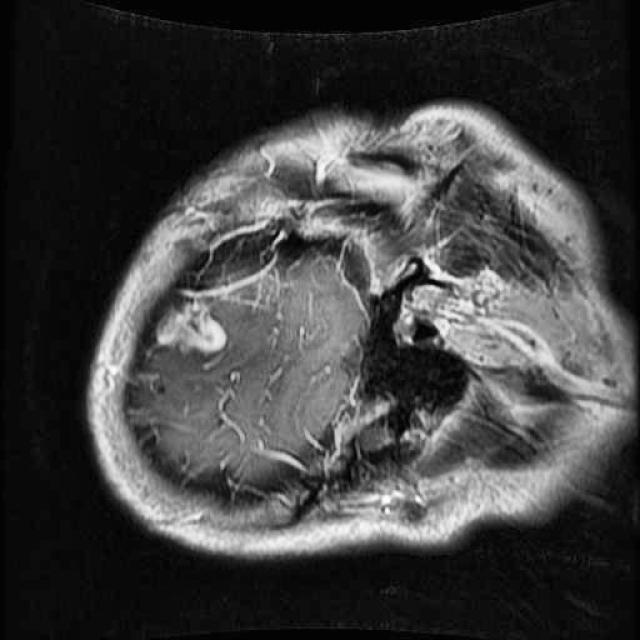Tumor: (142, 277, 234, 369)
